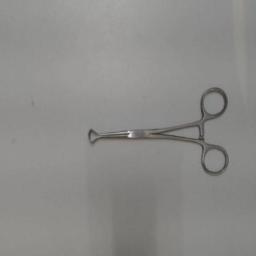Babcock Tissue Forceps: (86, 84, 230, 178)
